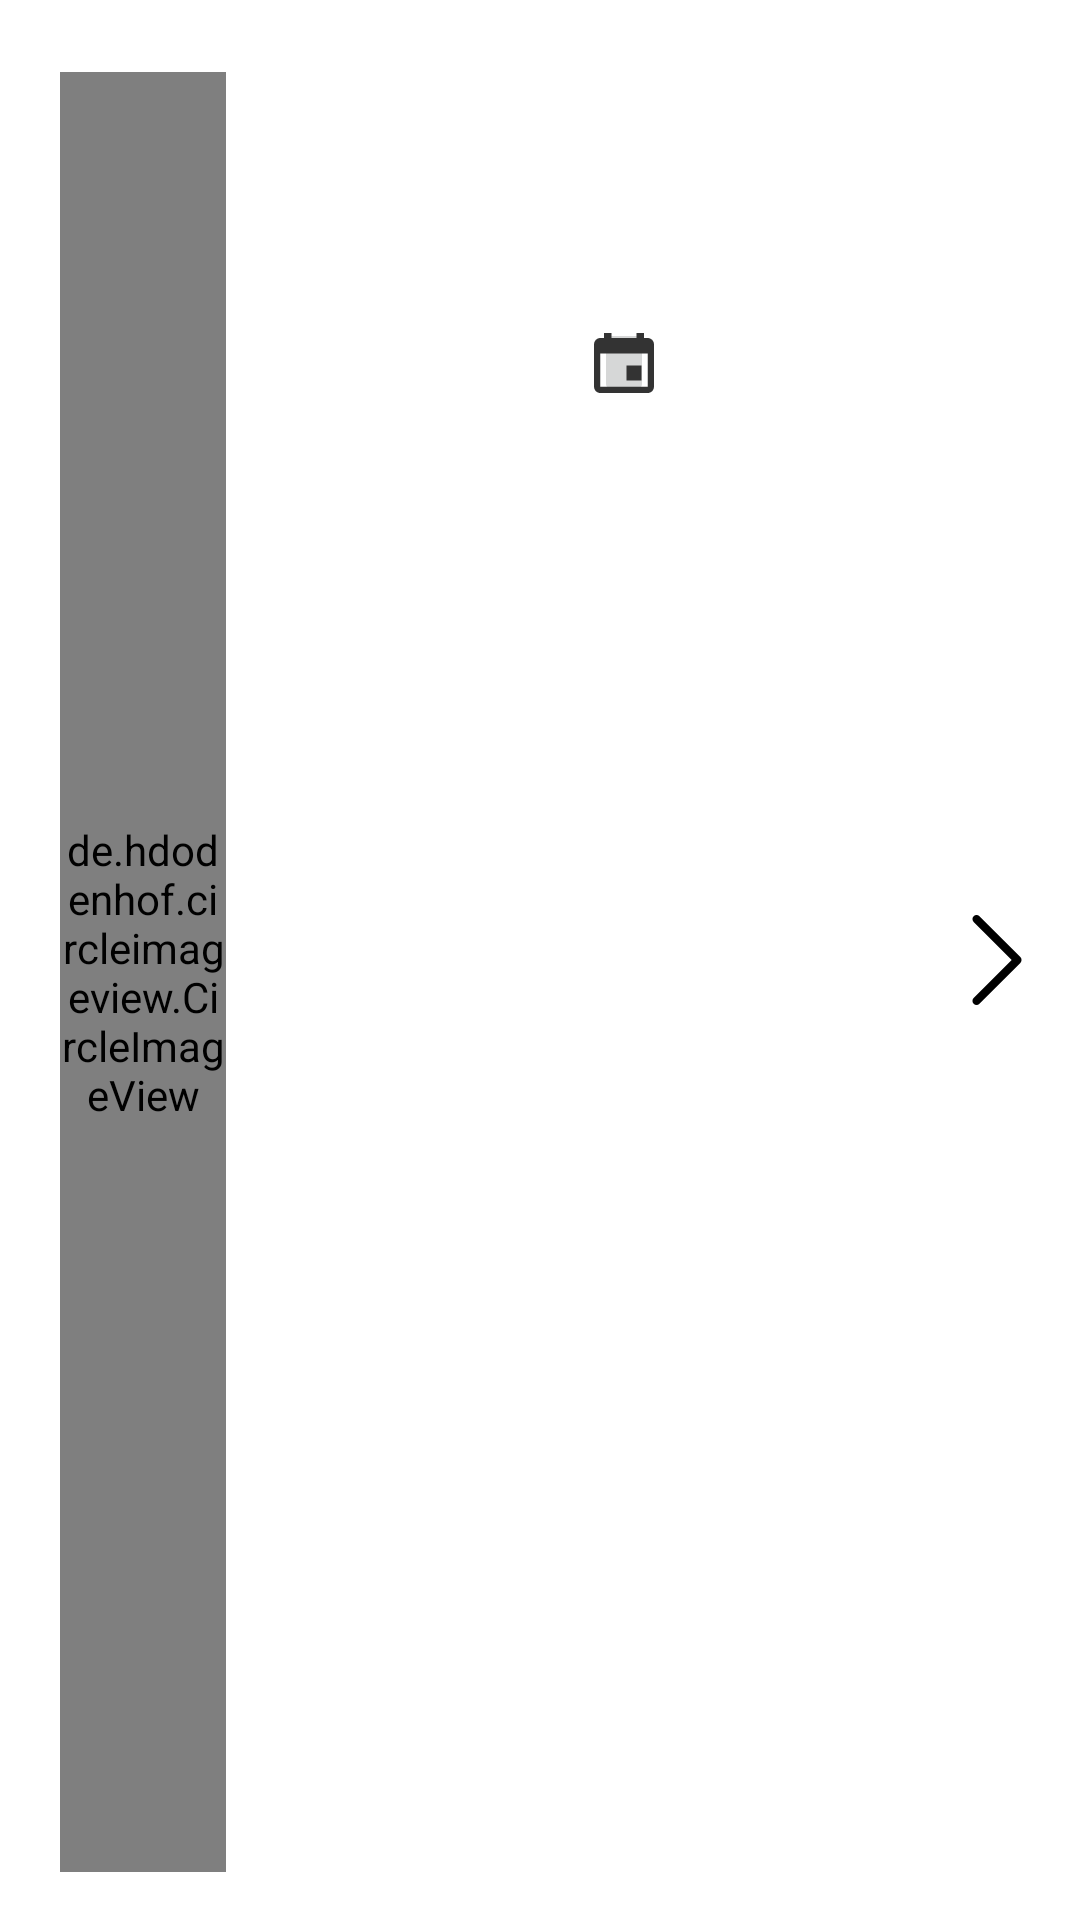

Point at icon controls on the screen. Image size 1080px×1920px, points as (x,y).
calender: (624,363)
right arrow: (997,960)
